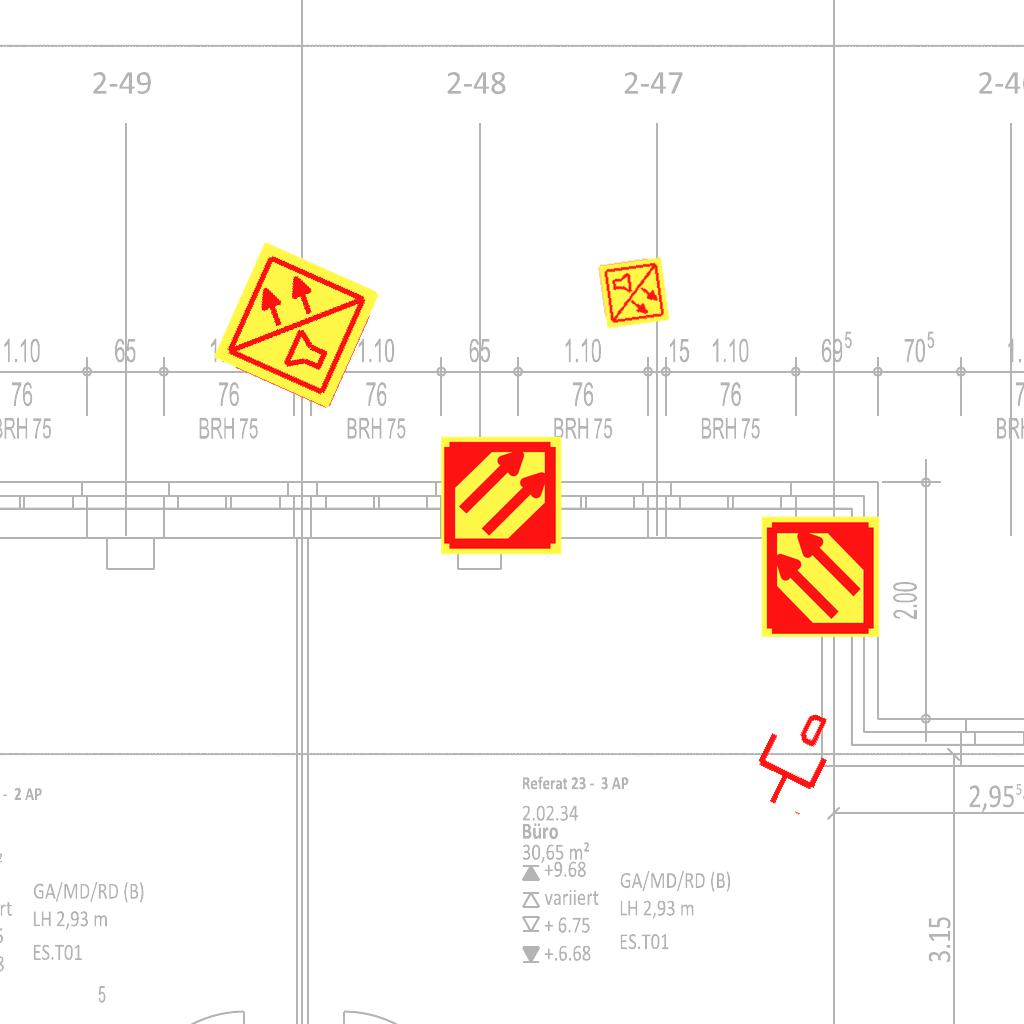ASR_Ansaugrauchmelder: (758, 514, 883, 639), (439, 433, 564, 558)
Datenanschluss_einfach: (740, 698, 847, 820)
OKW_Multisensormelder_(Kombination_optischer_Rauch-Kahlenmonoxid_Waerme-Melder): (209, 237, 385, 413), (596, 255, 672, 331)
